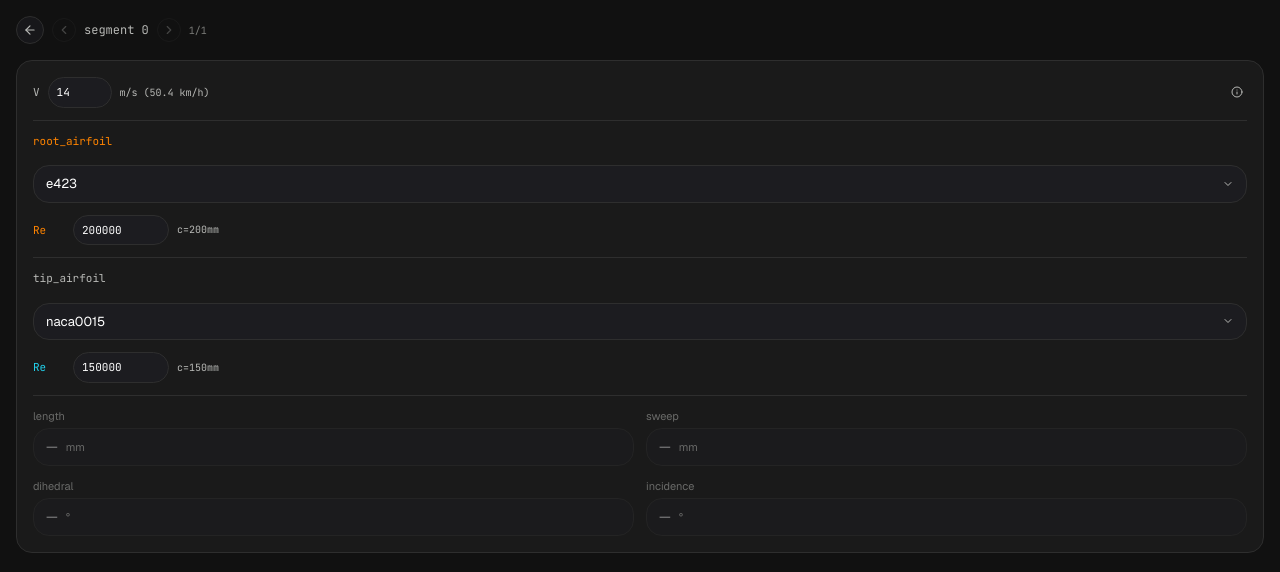
it: AirfoilPreviewConfigPanel — suitability card wiring › passes stats to root AirfoilSelector and score badge appears in dropdown
Expected: the text "root_airfoil" is shown, [33, 134, 112, 148]
Click the button "e423" at (62, 184), box [33, 165, 1247, 202]
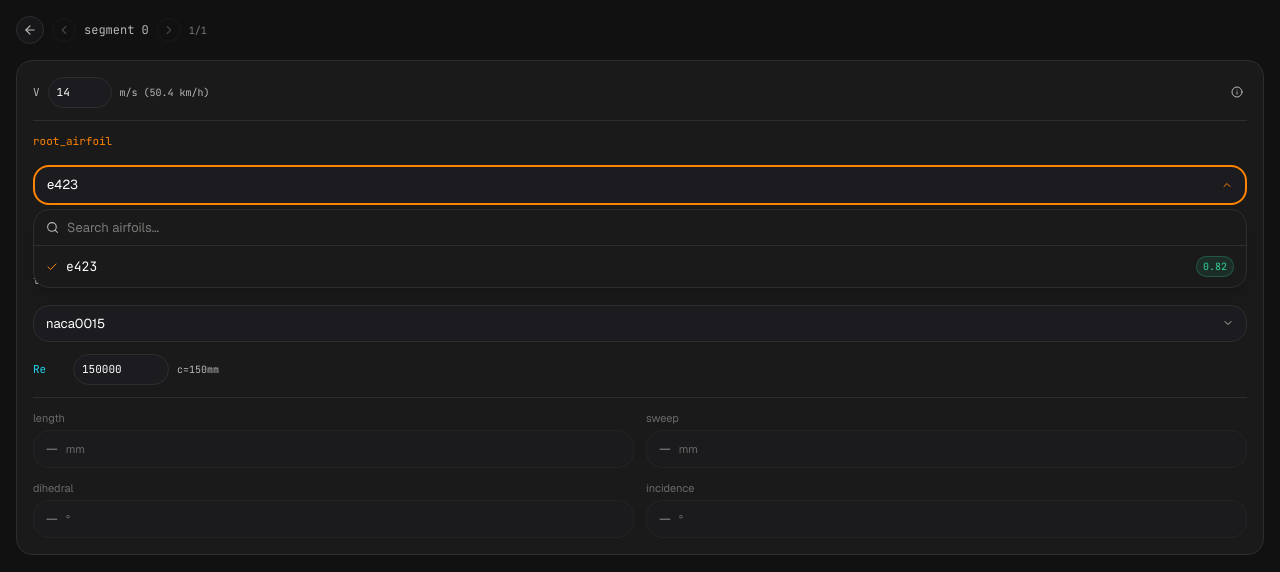
Expected: the text "0.82" is shown, [1196, 256, 1234, 277]
